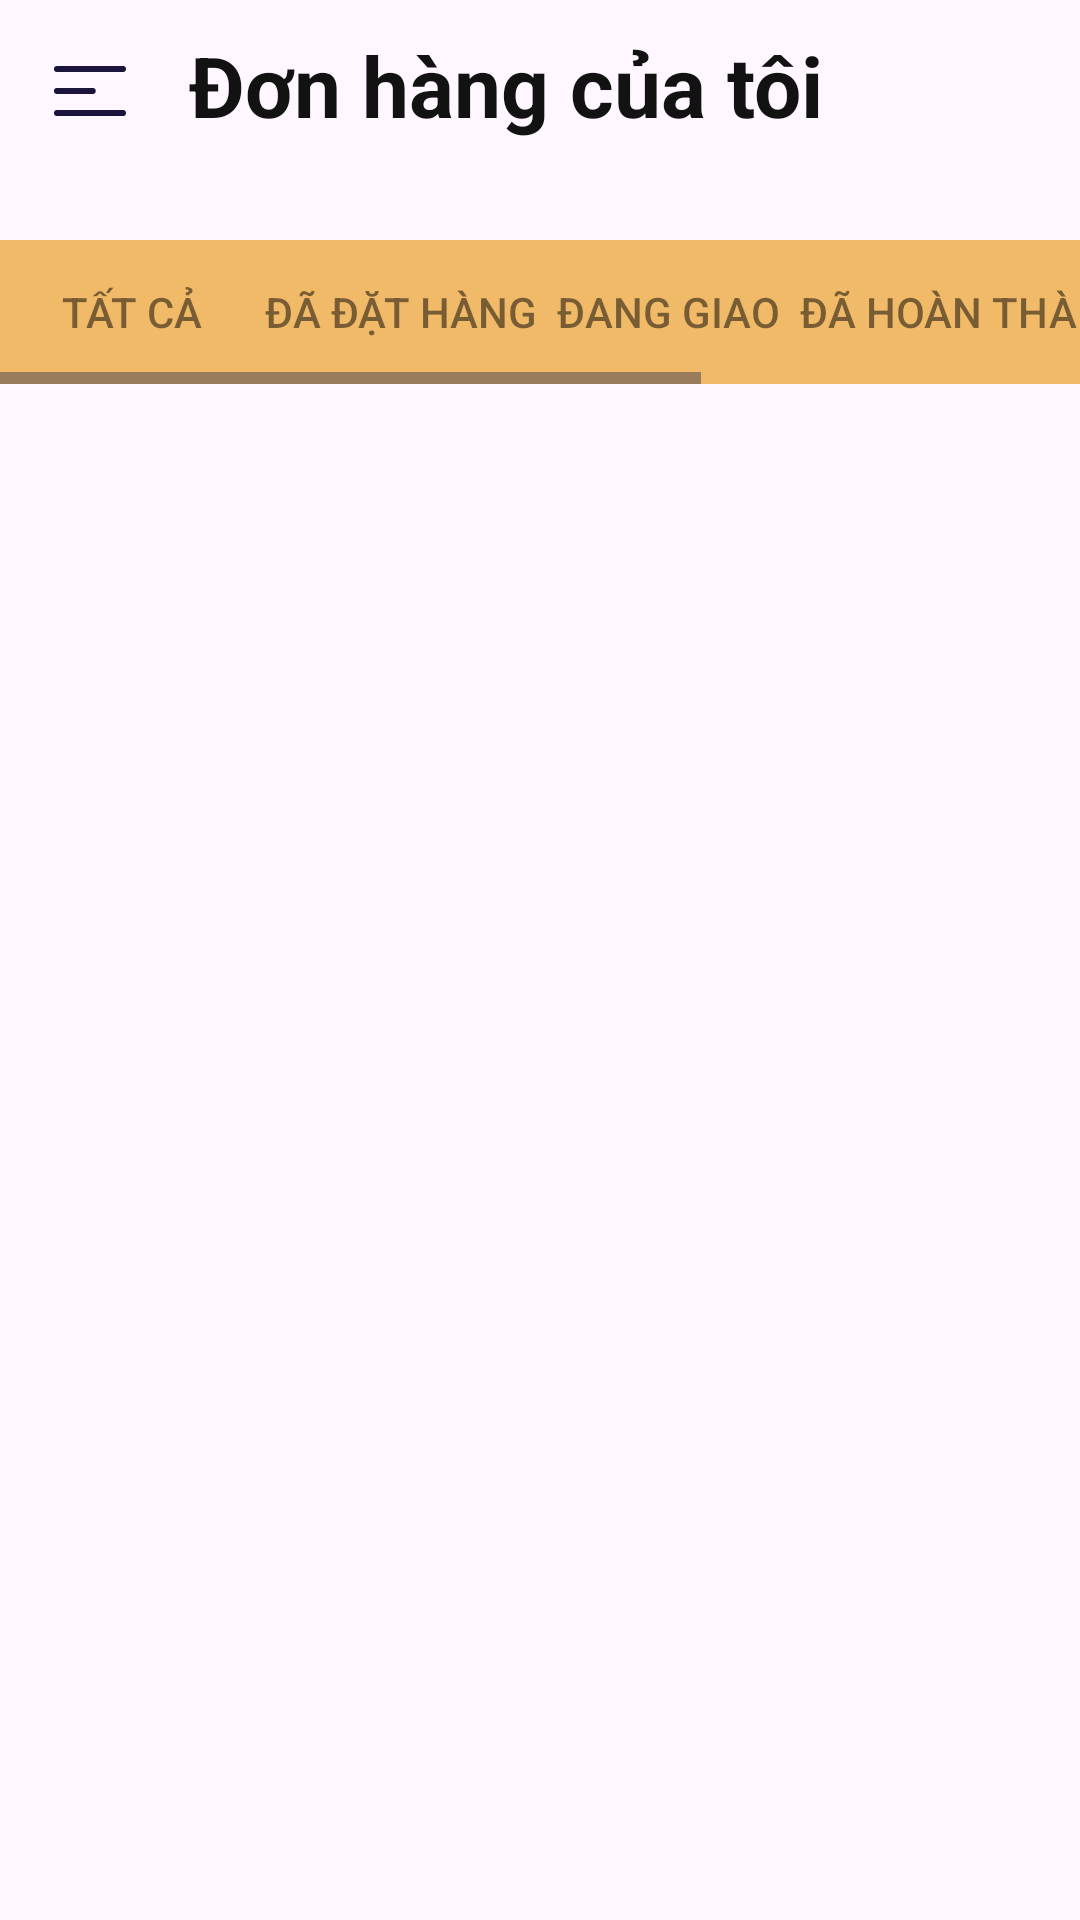

Screen size 1080px×1920px. Icon name, then its box in pixels as (x1, y1, x2, y2):
menu: (54, 66, 126, 116)
